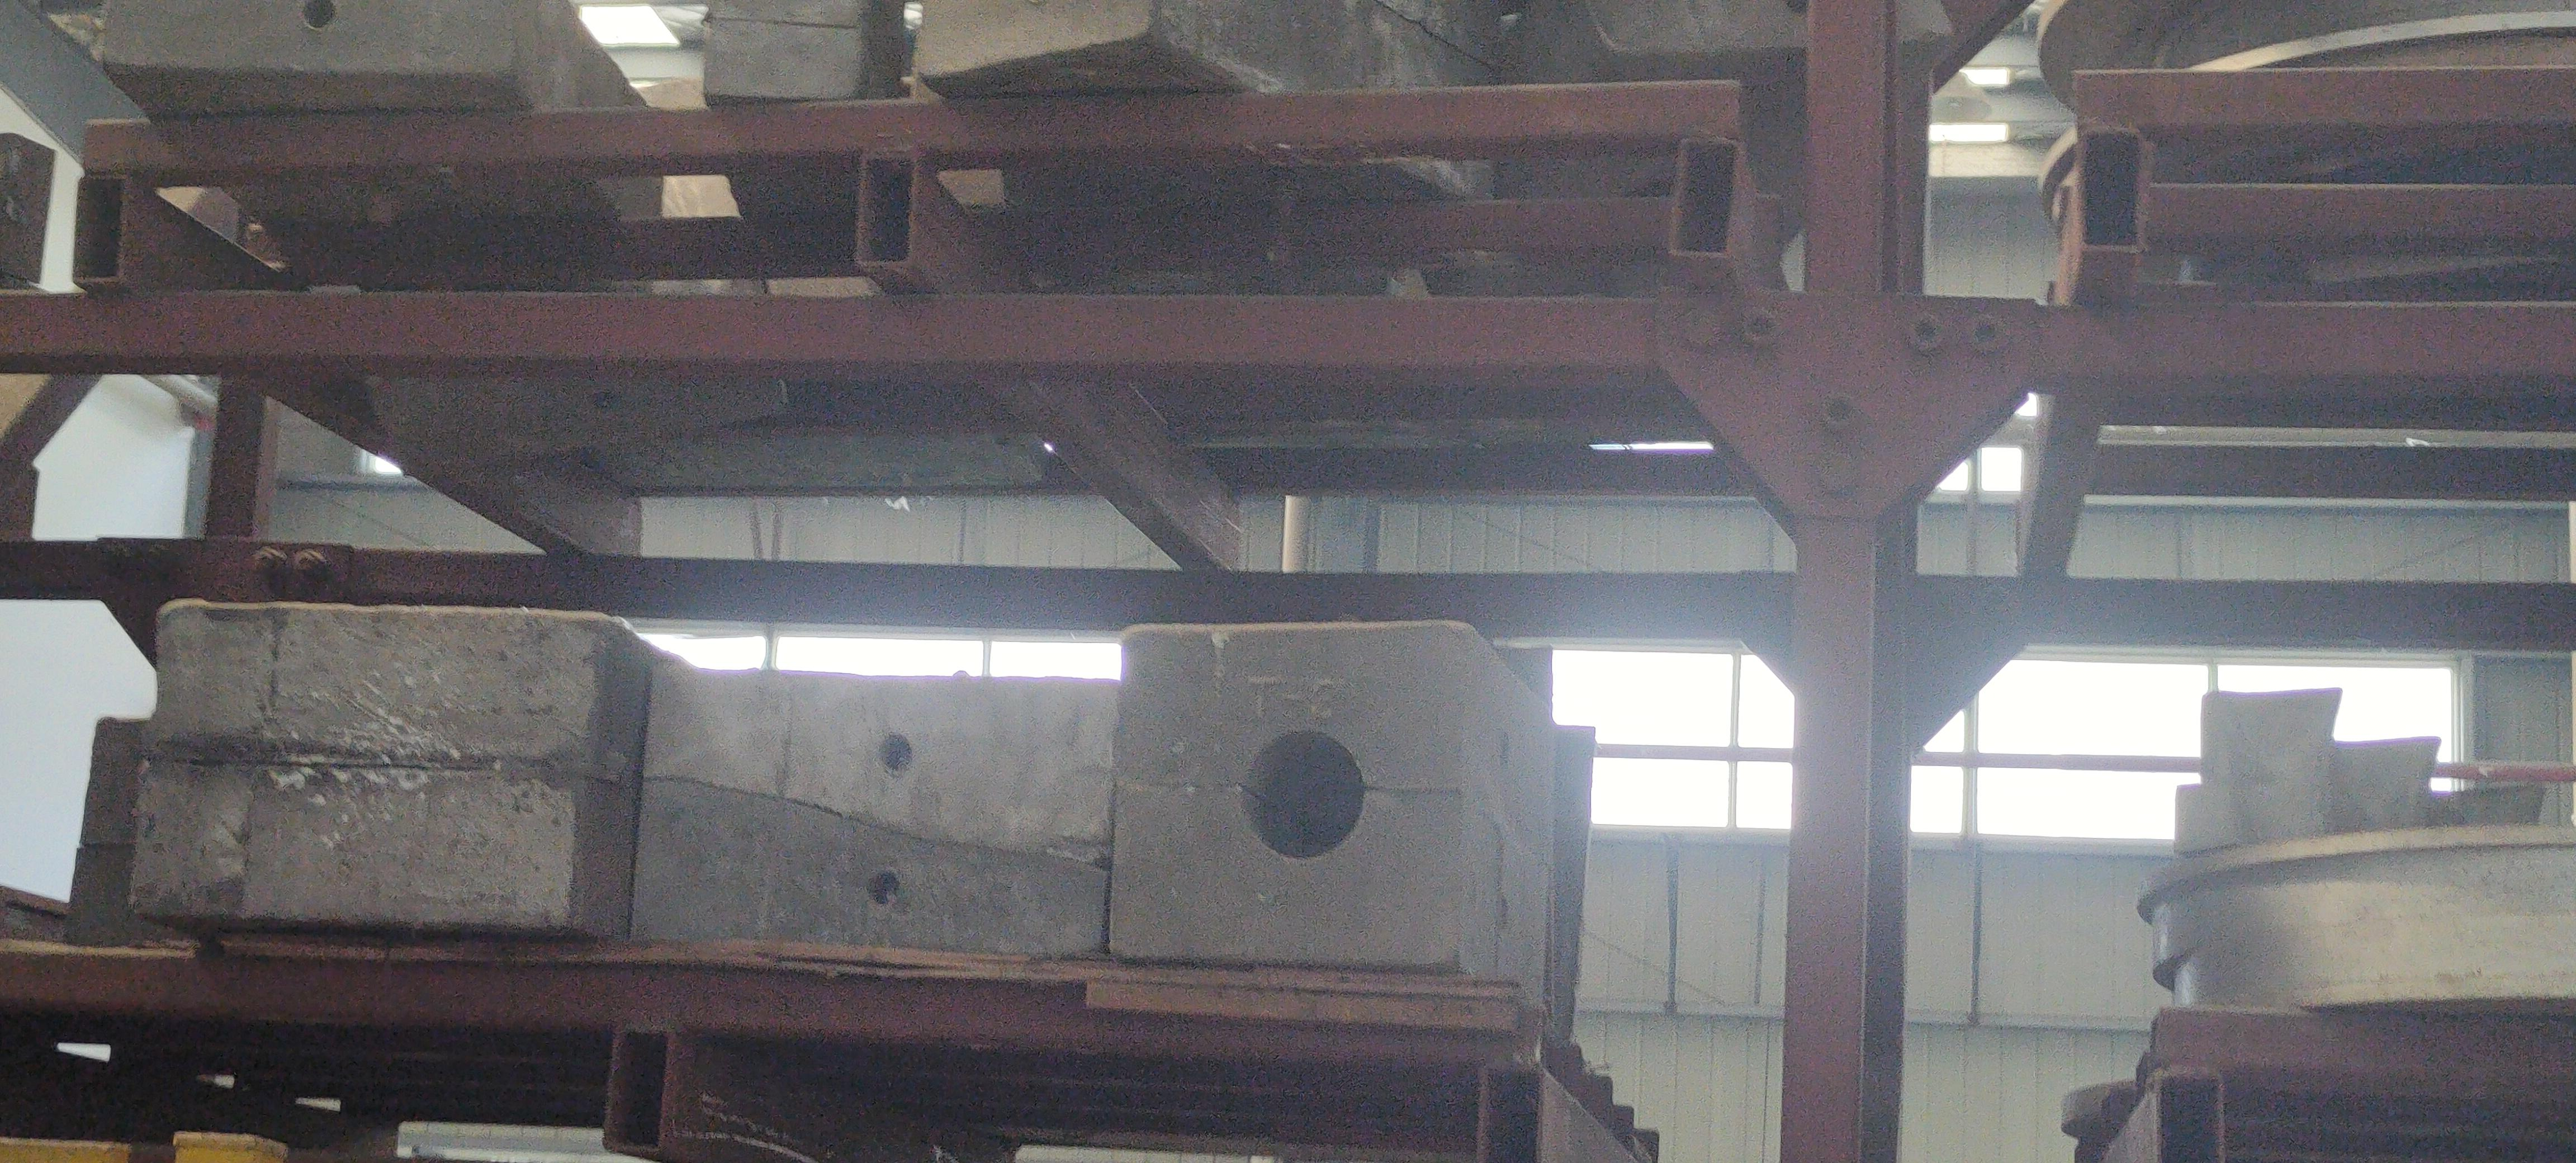pouring hole: (1239, 731, 1365, 862)
